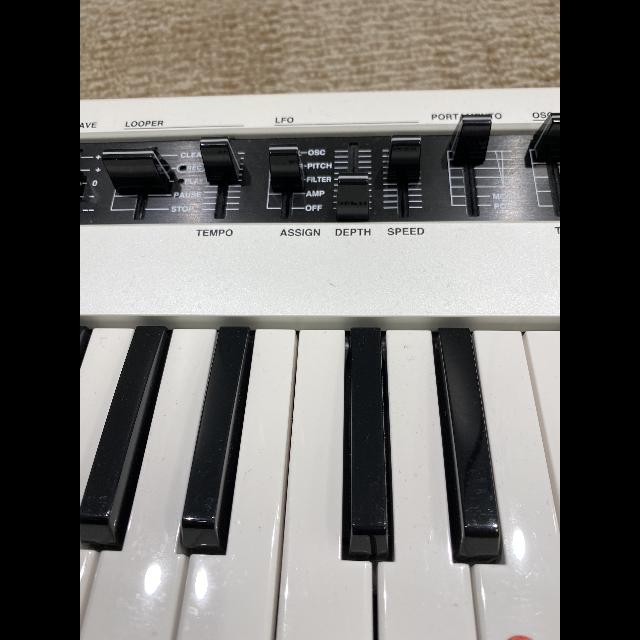Electronic-Keyboard: (80, 86, 560, 640)
